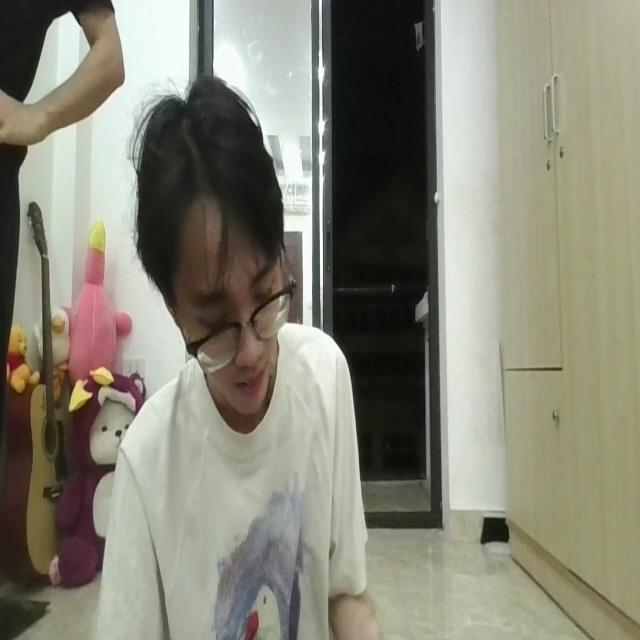student: (111, 68, 389, 640)
